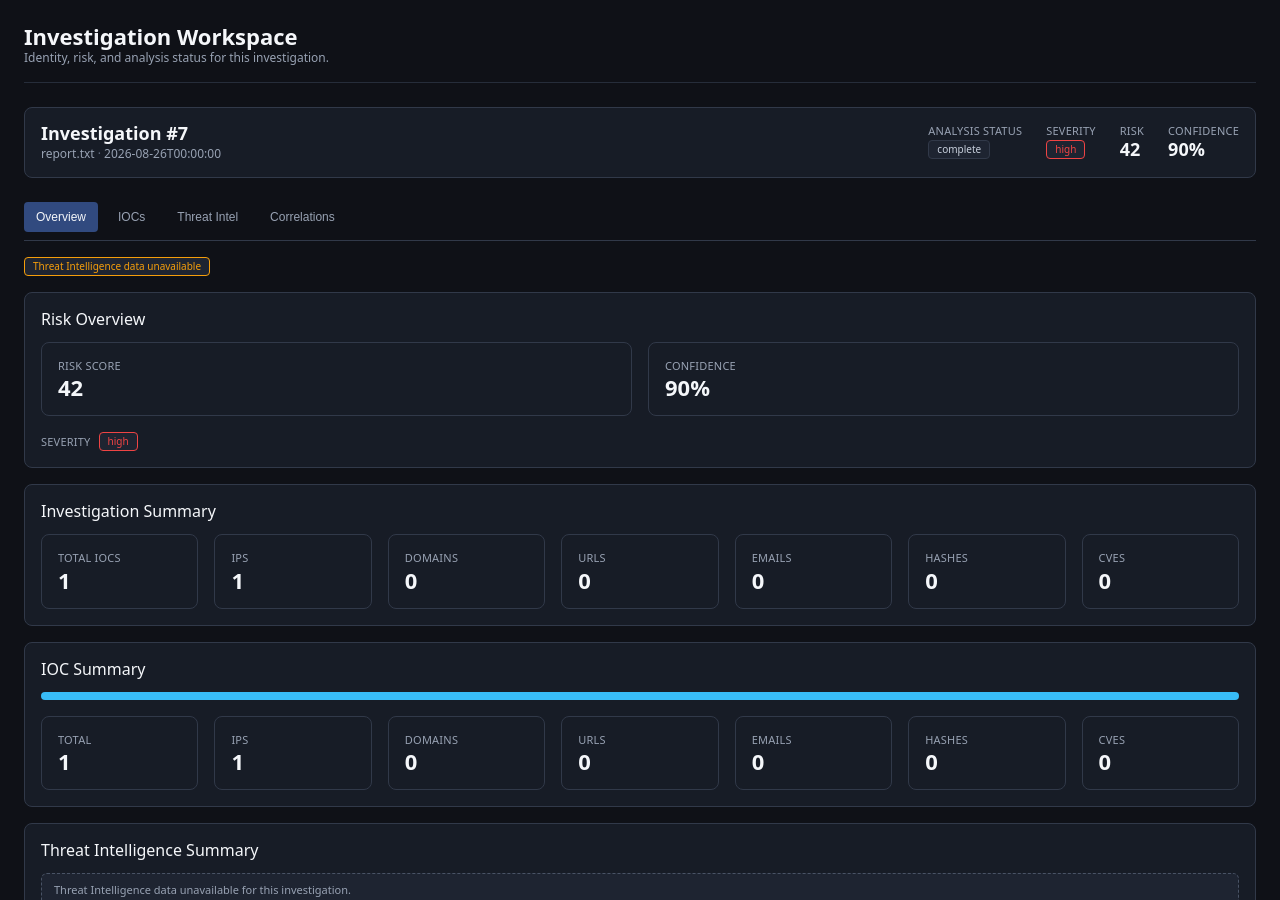
InvestigationWorkspacePage › Threat Intel tab (Part 3A) › keeps the IOC workspace independent when TI data is unavailable
Click the tab "IOCs".
click(132, 217)  # box [106,202,157,232]
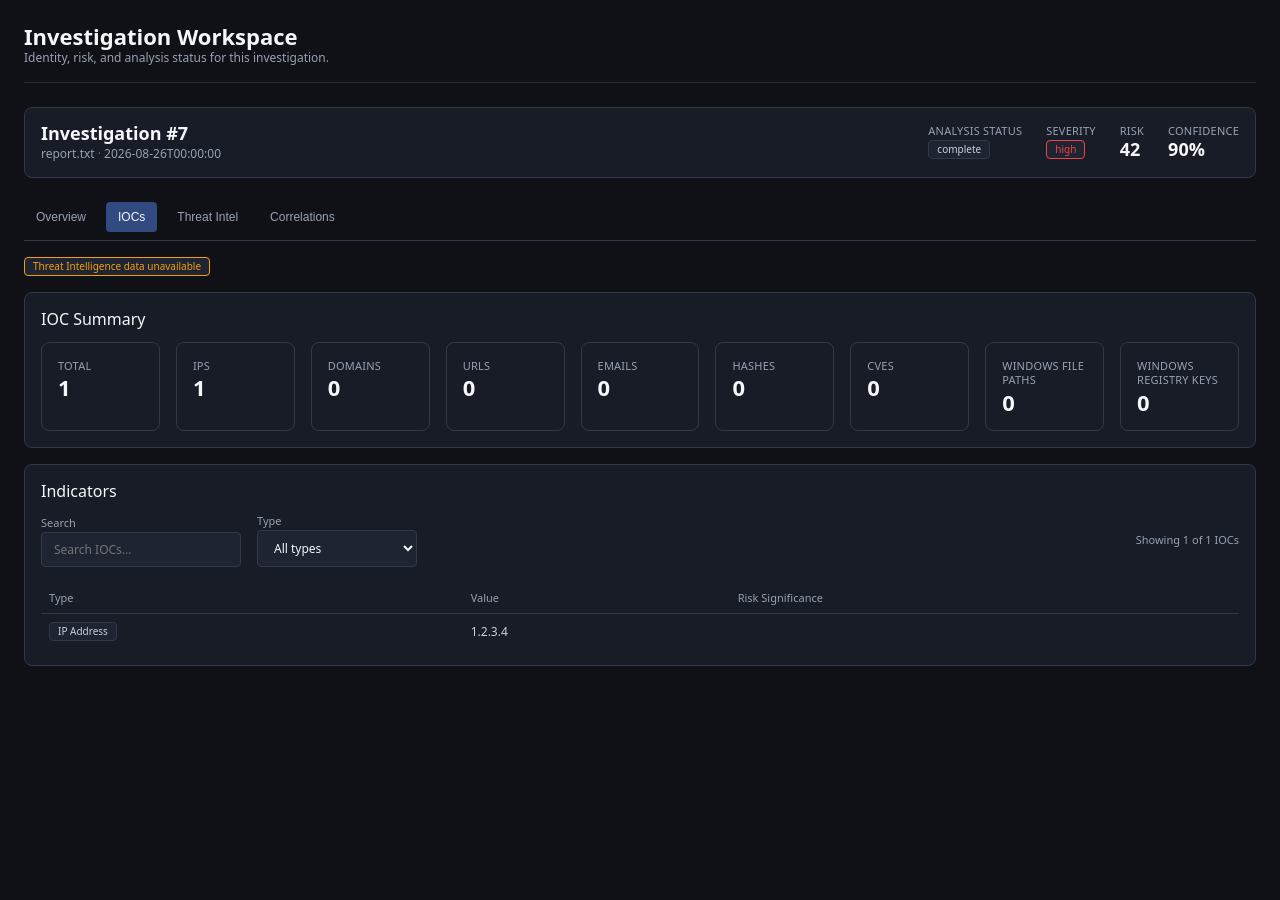
expect the element with class "investigation-ioc-workspace" shows "1.2.3.4": met, box [471,623,508,640]
